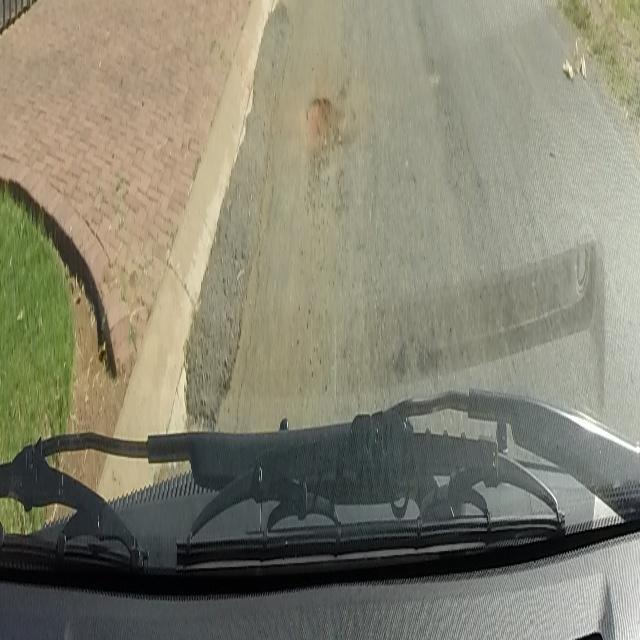pothole: (306, 90, 350, 168)
